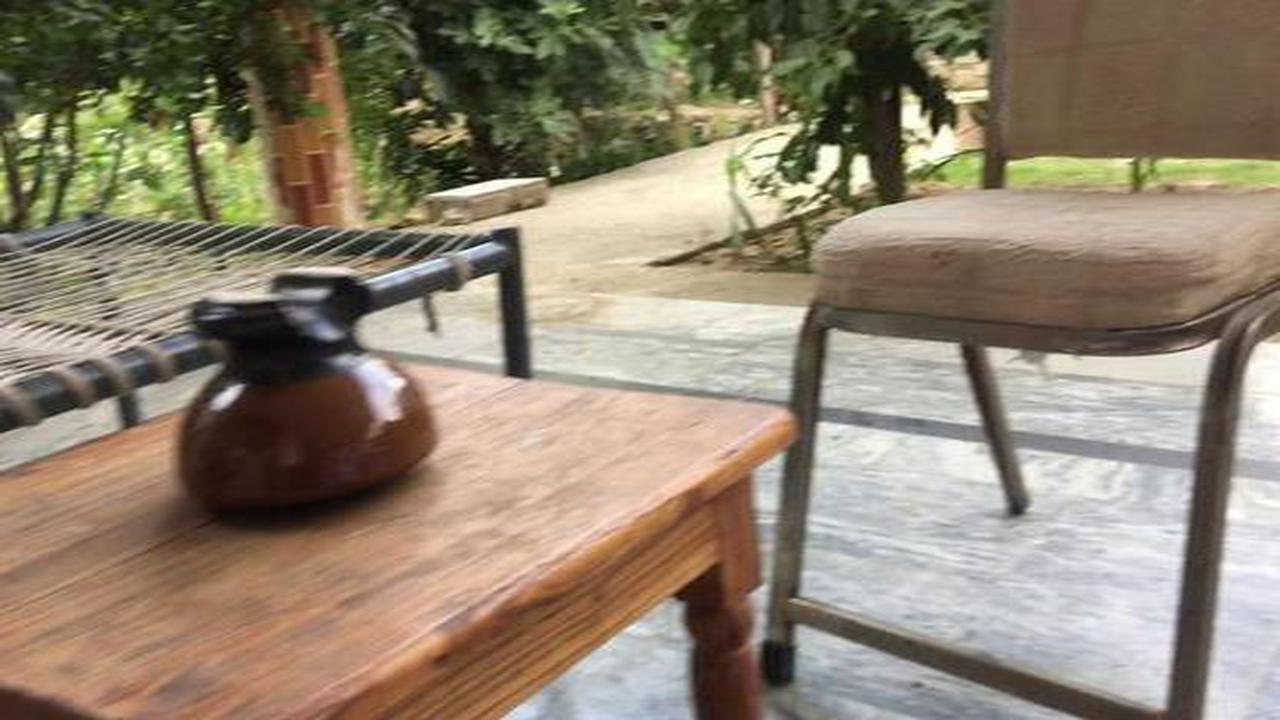insulator_pin: (167, 262, 450, 541)
